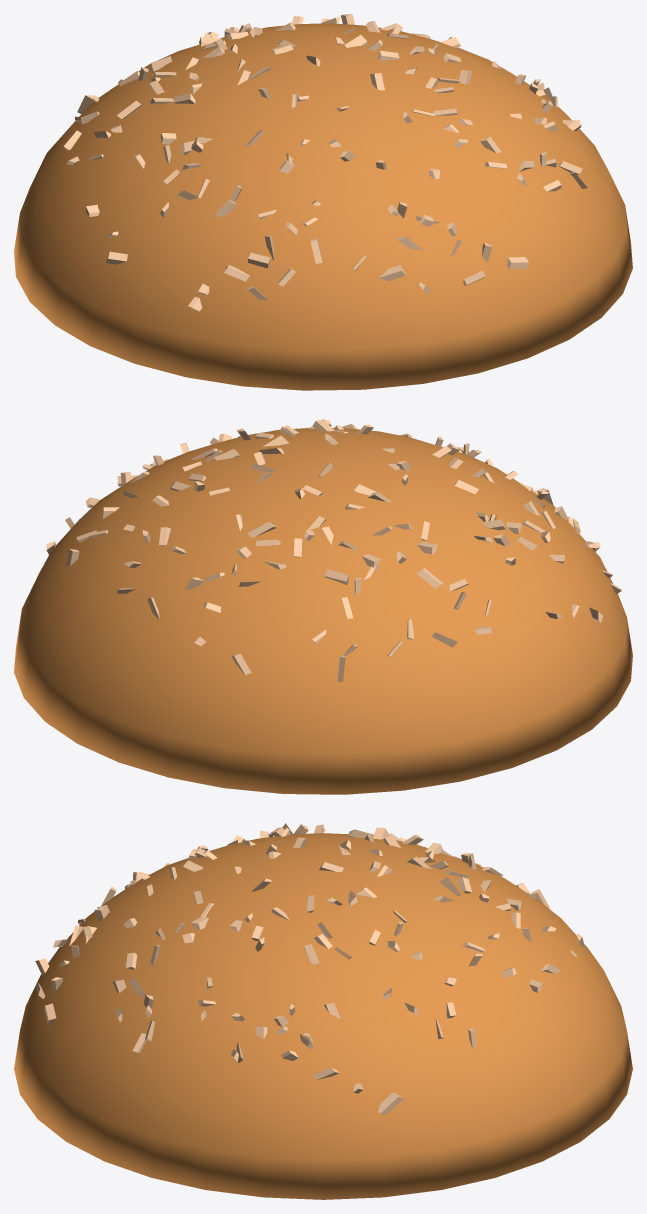
File: burger_top.fbx
The picture shows the model from 3 angles, top to bottom: view 1: azimuth 30°, elevation 25°; view 2: azimuth 150°, elevation 25°; view 3: azimuth 270°, elevation 25°; orthographic projection.
Visible parts, largest first — view 1: Sphère.002; view 2: Sphère.002; view 3: Sphère.002.
Boxes of the visible parts, x1,y1,x2,y2 form: Sphère.002: (14, 23, 632, 390); Sphère.002: (14, 428, 632, 794); Sphère.002: (14, 833, 632, 1199).
Size of the model in its own units: 402 by 146 by 402.
